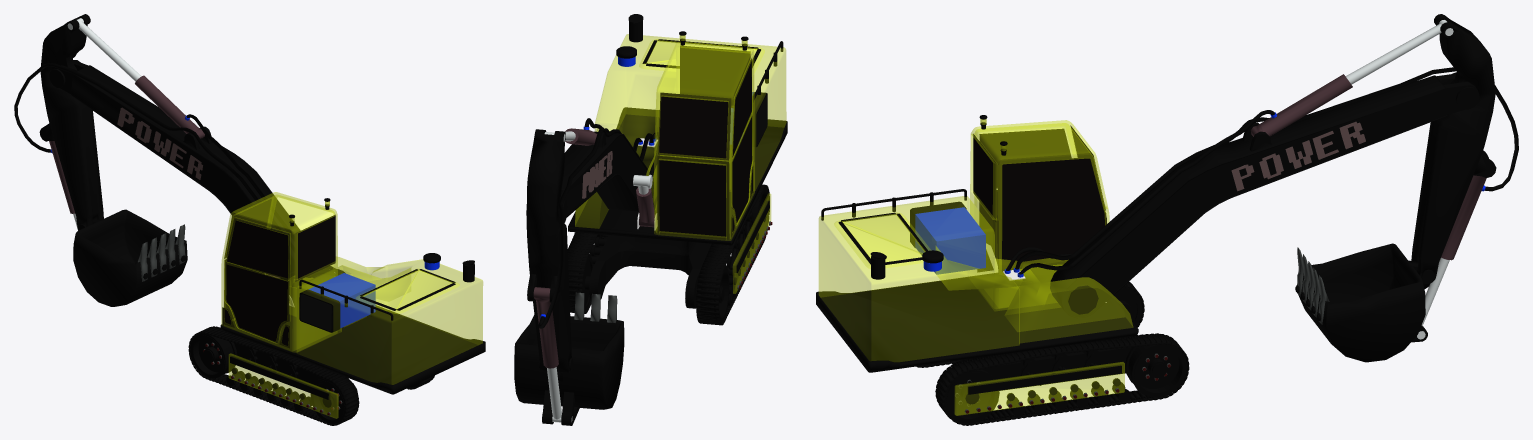
3 views of the same model, side by side, from view 1: azimuth 30°, elevation 25°; view 2: azimuth 150°, elevation 25°; view 3: azimuth 270°, elevation 25° (orthographic). The views are drawn at different scales.
Visible parts, largest first — view 1: body, cab, rear connecting rod, Digging shovels, front connecting rod, Right whell, wire, right track, seat, base; view 2: cab, body, front connecting rod, Digging shovels, rear connecting rod, base, Right whell, right track, wire, left track, pushrod, Left wheel; view 3: body, rear connecting rod, cab, front connecting rod, Digging shovels, Left wheel, wire, left track, seat, base.
Part boxes in pixels (x1,y1,x2,y2): body: (220,253,485,394); cab: (221,192,337,352); rear connecting rod: (54,18,333,304); Digging shovels: (73,209,187,306); front connecting rod: (40,14,103,230); Right whell: (190,333,345,423); wire: (14,60,345,280); right track: (188,326,359,425); seat: (308,273,375,328); base: (234,343,357,392); cab: (654,31,754,240); body: (568,14,787,245); front connecting rod: (526,129,572,422); Digging shovels: (514,292,624,425); rear connecting rod: (544,128,649,222); base: (589,235,711,308); Right whell: (696,187,772,322); right track: (696,184,769,325); wire: (526,118,659,328); left track: (567,232,608,313); pushrod: (633,174,657,230); Left wheel: (570,234,606,311); body: (816,189,1138,372); rear connecting rod: (1050,20,1479,318); cab: (970,115,1109,308); front connecting rod: (1411,14,1495,339); Digging shovels: (1295,243,1434,362); Left wheel: (944,344,1187,423); wire: (1004,67,1518,277); left track: (935,333,1189,425); seat: (915,207,985,274); base: (986,300,1135,390).
Size of the model in its own units: 0.4069 by 0.4826 by 0.9672.
